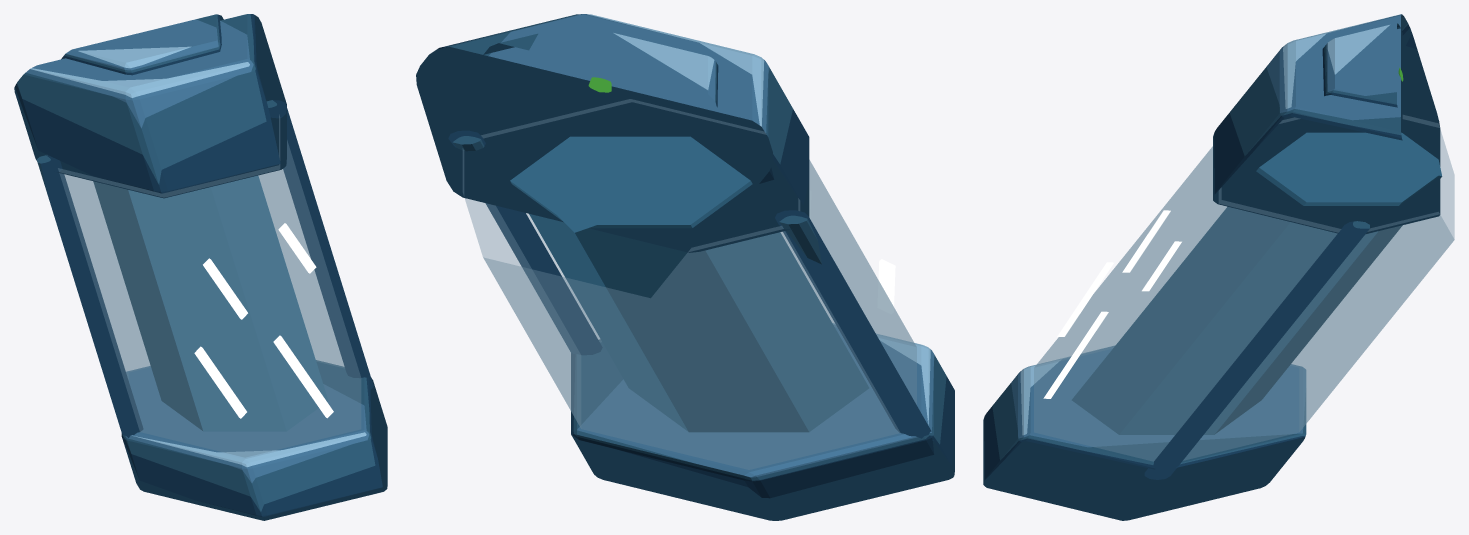
File: fruit_capsule_b.glb
The picture shows the model from 3 angles, left to right: view 1: azimuth 30°, elevation 25°; view 2: azimuth 150°, elevation 25°; view 3: azimuth 270°, elevation 25°; orthographic projection. The views are drawn at different scales.
Visible parts, largest first — view 1: fruit_capsule_b; view 2: fruit_capsule_b; view 3: fruit_capsule_b.
Part boxes in pixels (x1,y1,x2,y2): fruit_capsule_b: (14, 14, 387, 520); fruit_capsule_b: (416, 14, 954, 520); fruit_capsule_b: (983, 14, 1454, 520).
Bounding box in the file's own units: 15.82 × 20.85 × 22.78.
